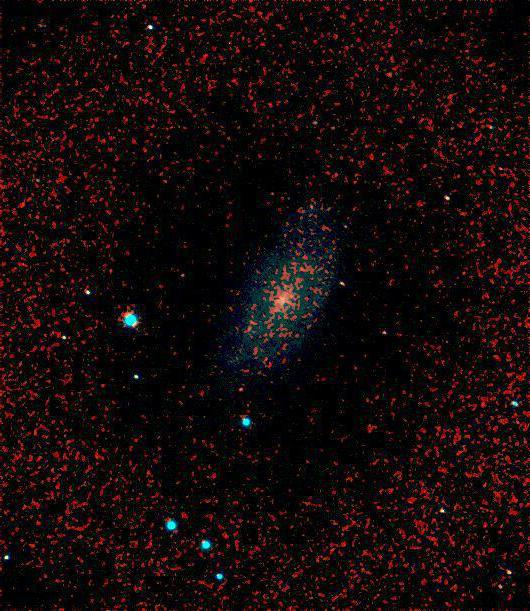star: (135, 10, 165, 40)
